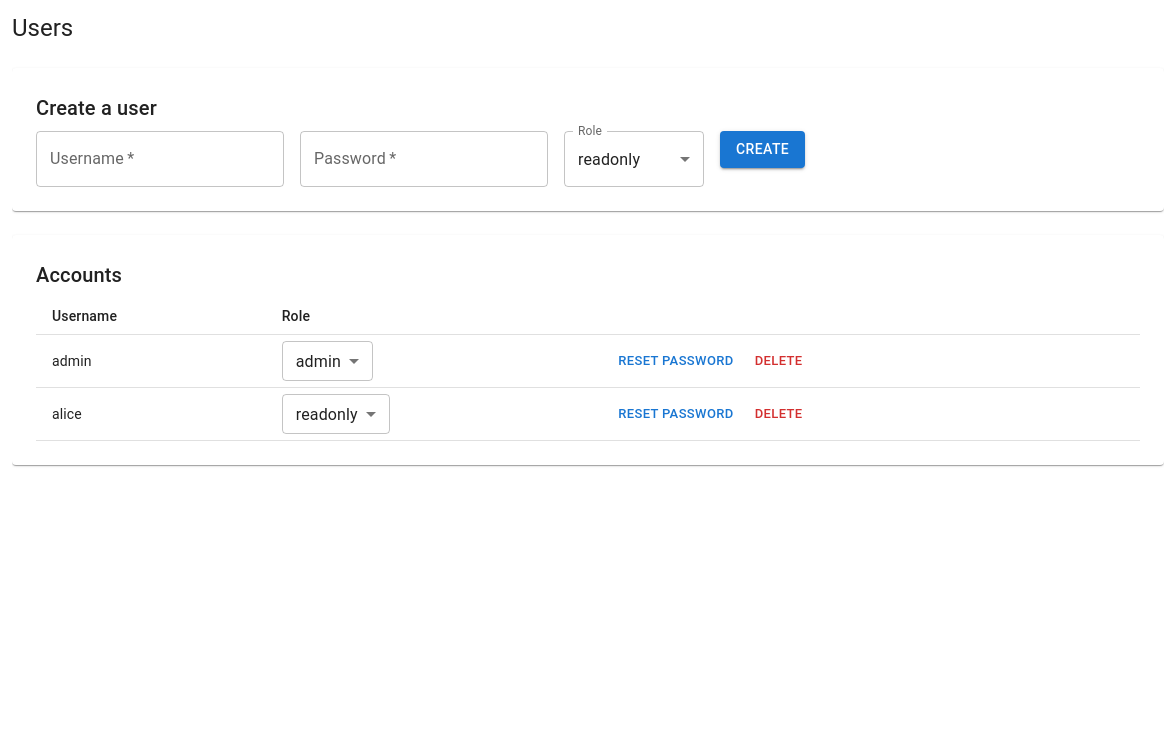
UsersPage › deletes a user and surfaces a 409 (last-admin) error
The image size is (1164, 732).
Expected: the 1st cell "admin" is shown, [36, 334, 266, 388]
Click the 1st button "Delete": coordinates (779, 361) [747, 346, 811, 376]
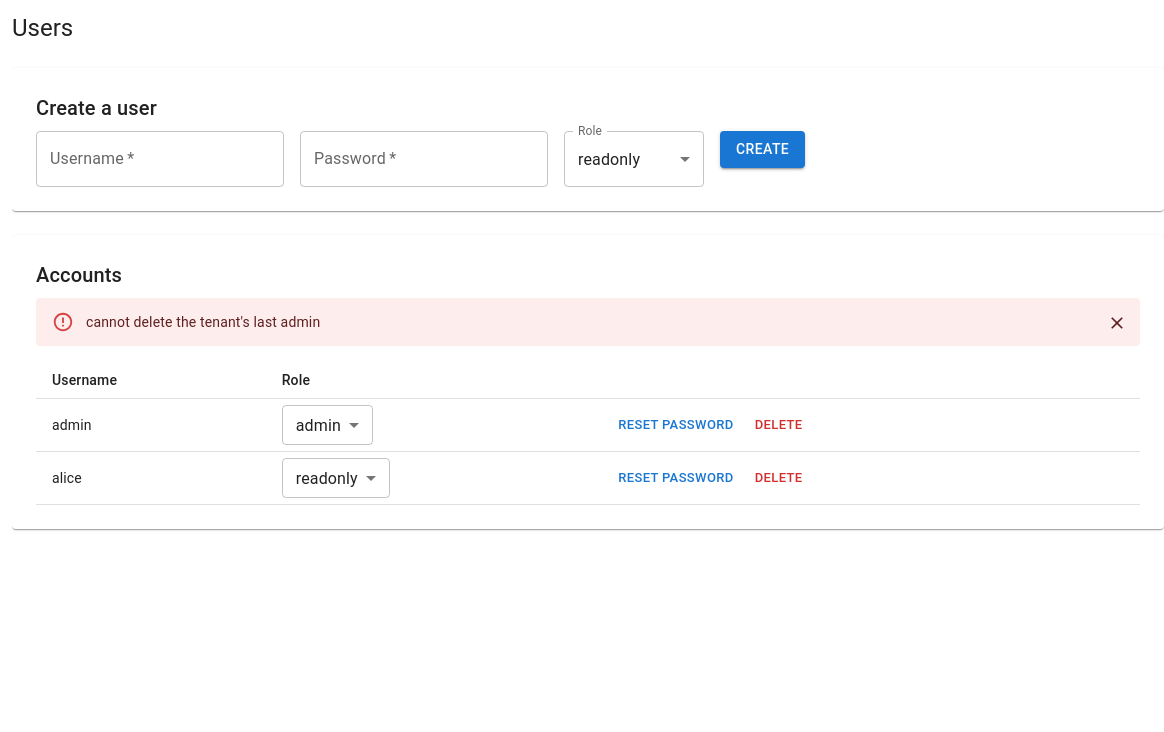
Expected: the text "cannot delete the tenant's last admin" is shown, [86, 314, 320, 330]
